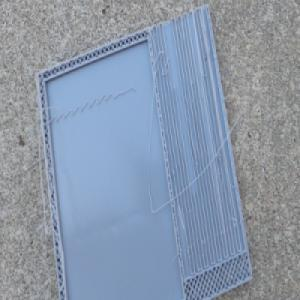PlasticPart: (34, 3, 254, 300)
